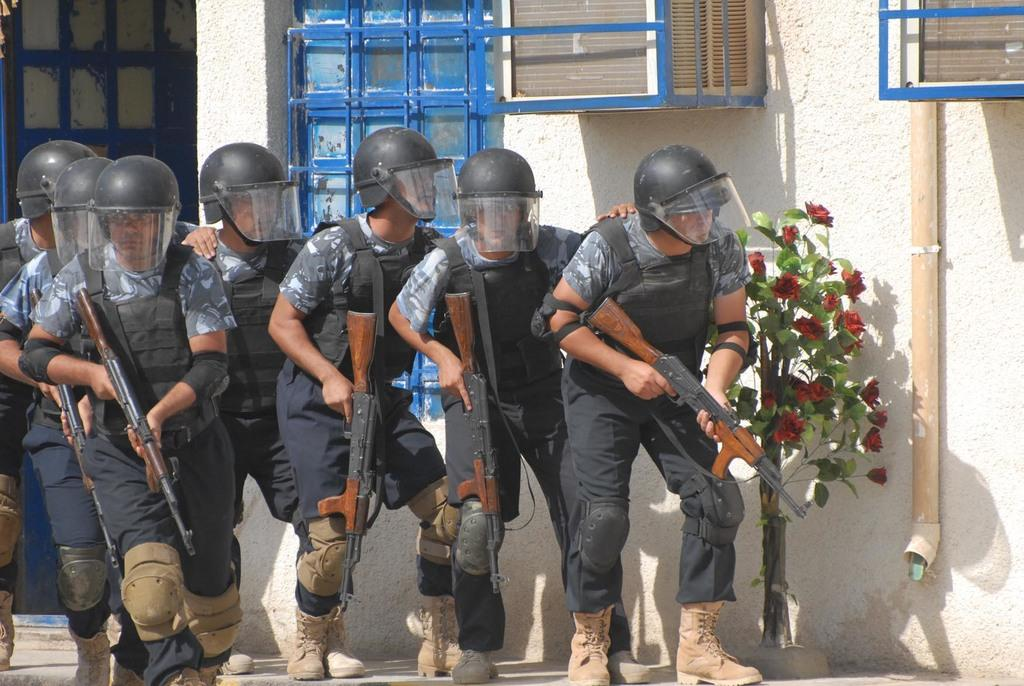helmet: (633, 143, 753, 246), (200, 142, 303, 242), (93, 155, 180, 271), (353, 126, 460, 219), (51, 156, 130, 269), (455, 147, 540, 252), (16, 140, 110, 220)
